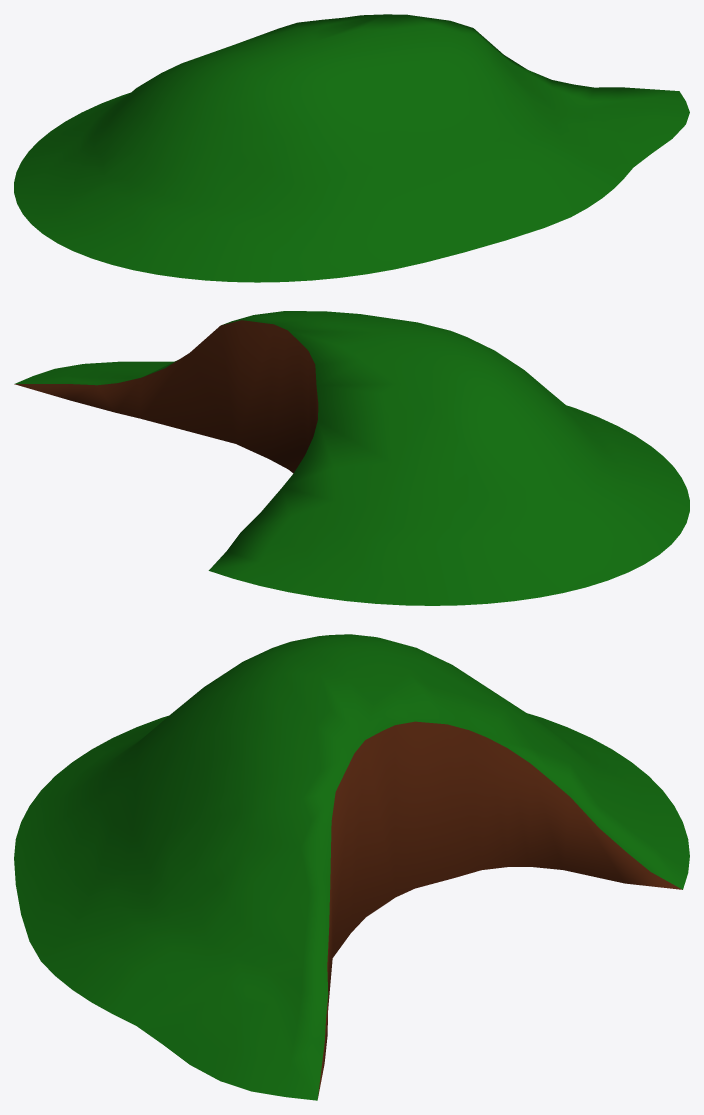
File: land_01.fbx
The picture shows the model from 3 angles, top to bottom: view 1: azimuth 30°, elevation 25°; view 2: azimuth 150°, elevation 25°; view 3: azimuth 270°, elevation 25°; orthographic projection. The views are drawn at different scales.
Parts seen in each view (by area): view 1: land_01; view 2: land_01; view 3: land_01.
Part boxes in pixels (x1,y1,x2,y2): land_01: (14,14,689,282); land_01: (14,311,689,605); land_01: (14,634,689,1100).
Size of the model in its own units: 18.21 by 12.63 by 3.83.
